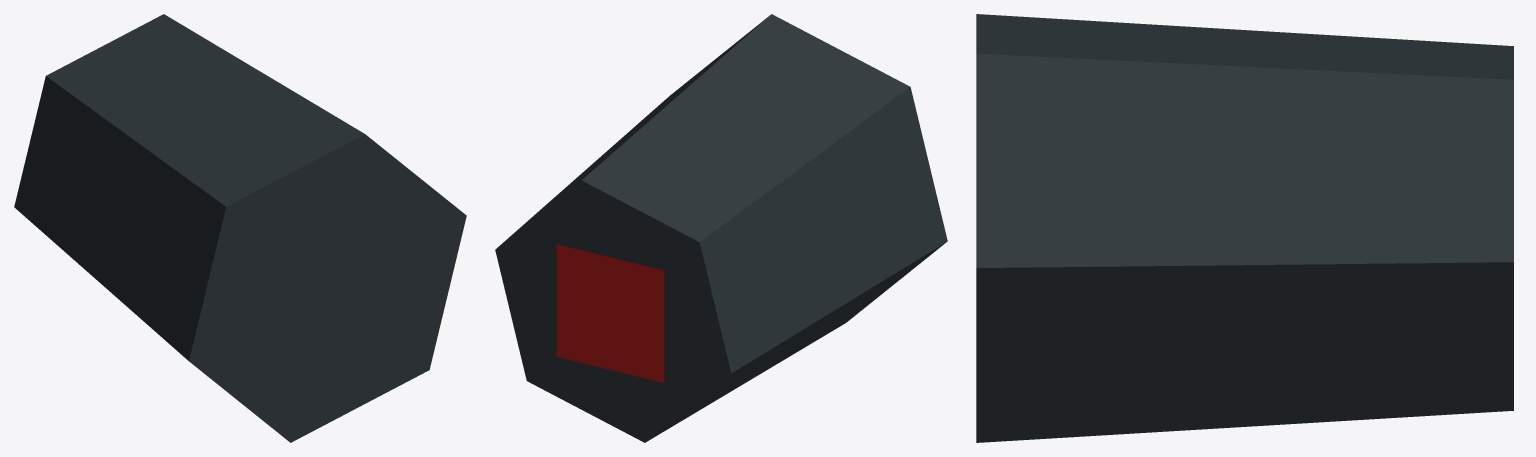
The picture shows the model from 3 angles, left to right: view 1: azimuth 30°, elevation 25°; view 2: azimuth 150°, elevation 25°; view 3: azimuth 270°, elevation 25°; orthographic projection. The views are drawn at different scales.
Visible parts, largest first — view 1: mount; view 2: mount; view 3: mount.
Boxes of the visible parts, x1,y1,x2,y2 form: mount: [14, 14, 466, 442]; mount: [495, 14, 947, 442]; mount: [976, 14, 1513, 442].
Size of the model in its own units: 1.76 by 1.76 by 2.17.
